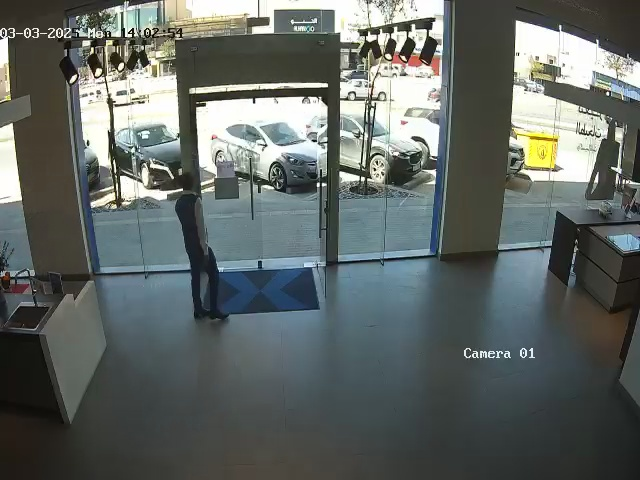employee: (174, 171, 230, 321)
